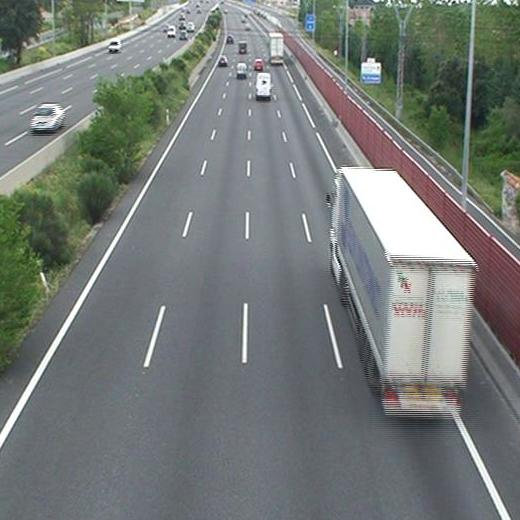car: (253, 58, 263, 71), (219, 57, 227, 66), (226, 35, 234, 43)
truck: (329, 167, 474, 416), (269, 34, 283, 63)
van: (257, 74, 272, 98), (237, 63, 247, 79), (238, 42, 247, 55)
